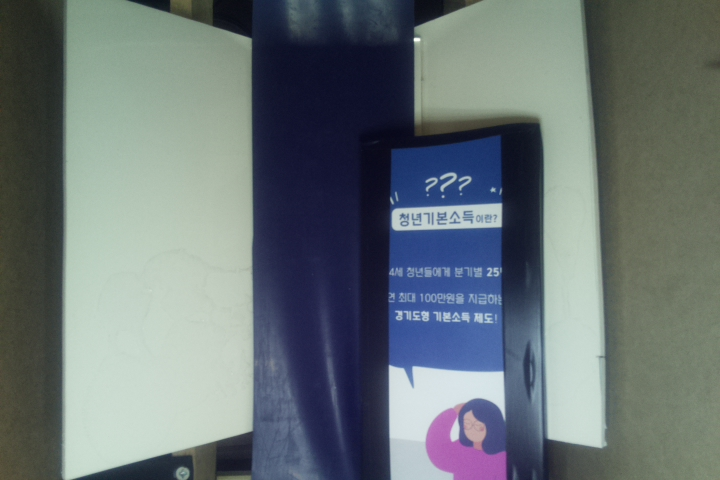book: (371, 121, 543, 480)
